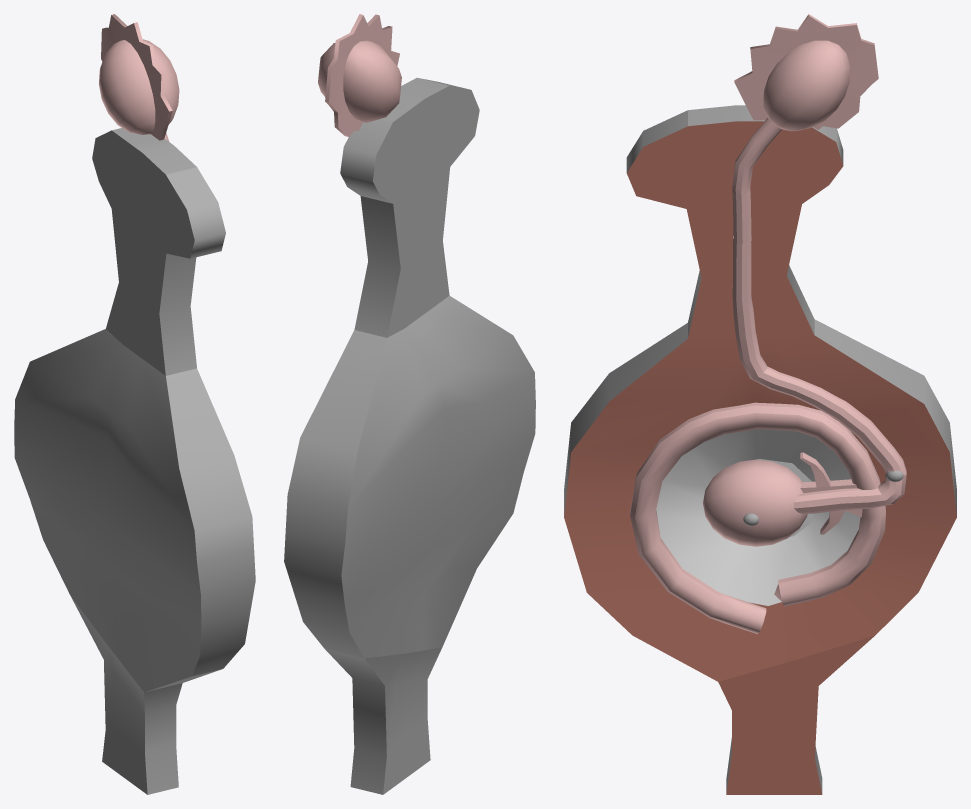
The model's file is 2nd_zygote_ani.fbx.
The picture shows the model from 3 angles, left to right: view 1: azimuth 30°, elevation 25°; view 2: azimuth 150°, elevation 25°; view 3: azimuth 270°, elevation 25°; orthographic projection. The views are drawn at different scales.
Visible parts, largest first — view 1: pCube1, pSphere8, pCube3; view 2: pCube1, pSphere8, pCube3; view 3: pCube1, pCylinder1, on_off_pipe, pSphere7, pSphere8, pCube3, polySurface4, pCube2.
Part boxes in pixels (box(x1,y1,x2,y2)): pCube1: box(14, 128, 255, 794); pSphere8: box(99, 39, 179, 134); pCube3: box(101, 14, 172, 140); pCube1: box(284, 77, 535, 794); pSphere8: box(318, 40, 401, 122); pCube3: box(325, 14, 399, 136); pCube1: box(564, 105, 956, 794); pCylinder1: box(630, 402, 885, 633); on_off_pipe: box(732, 236, 906, 513); pSphere7: box(703, 459, 807, 546); pSphere8: box(763, 40, 849, 131); pCube3: box(734, 14, 878, 129); polySurface4: box(732, 118, 782, 244); pCube2: box(800, 452, 862, 534).
Size of the model in its own units: 15.92 by 119 by 54.58.
